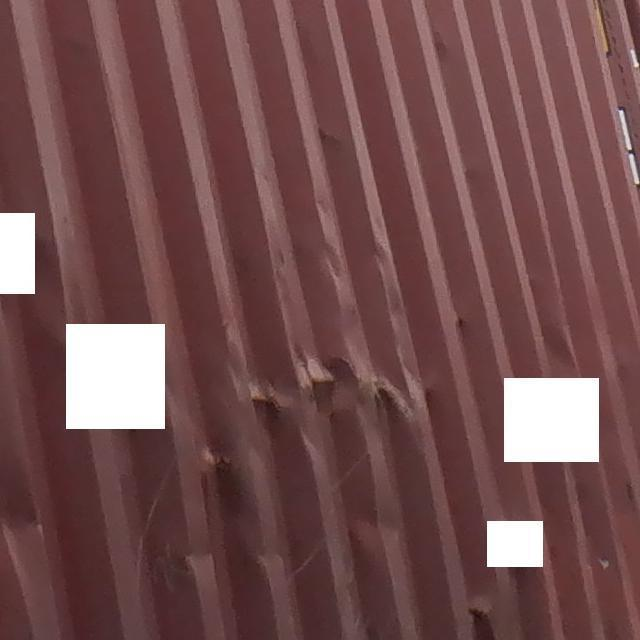dent: (182, 304, 445, 495)
